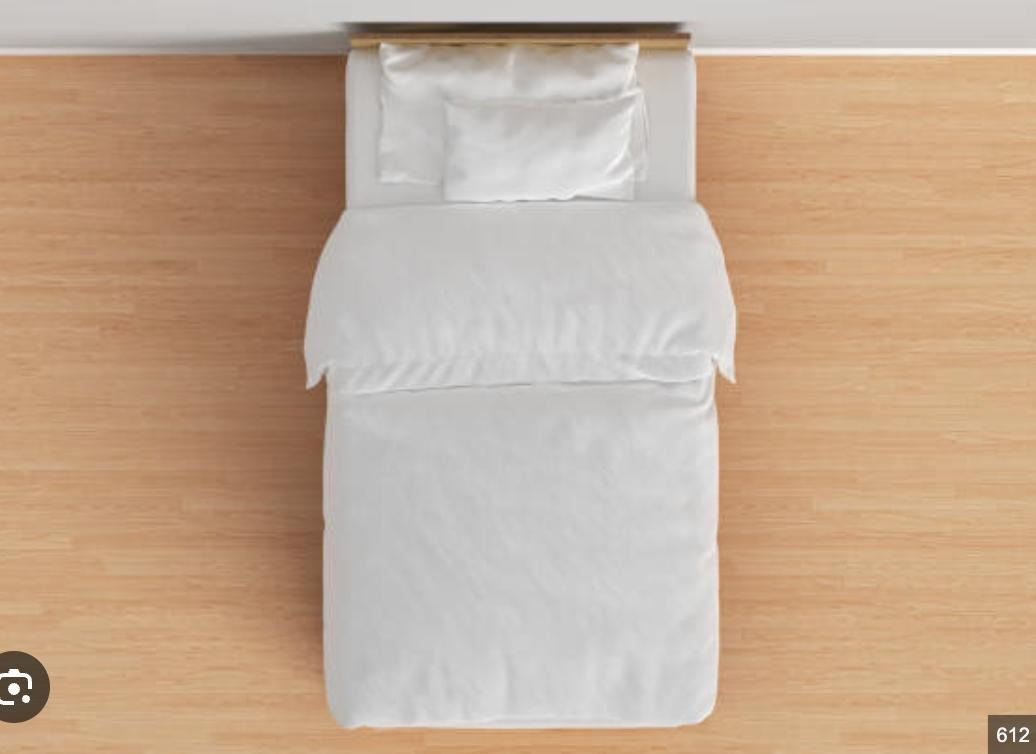Bed-Mattress: (318, 17, 726, 732)
